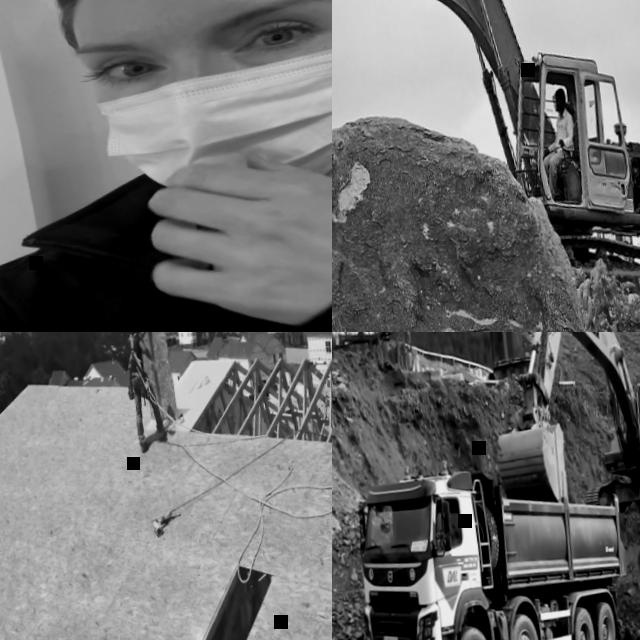Mask: (84, 2, 332, 211)
NO-Hardhat: (552, 85, 567, 102)
NO-Mask: (555, 103, 566, 115)
NO-Safety Vest: (0, 159, 332, 332), (552, 114, 574, 151), (127, 333, 144, 375), (438, 524, 454, 539)
Person: (0, 0, 332, 332), (121, 332, 169, 454), (532, 84, 582, 200), (428, 508, 455, 545)
machinery: (332, 0, 640, 332), (344, 436, 640, 640), (471, 332, 640, 533), (332, 332, 420, 382)
